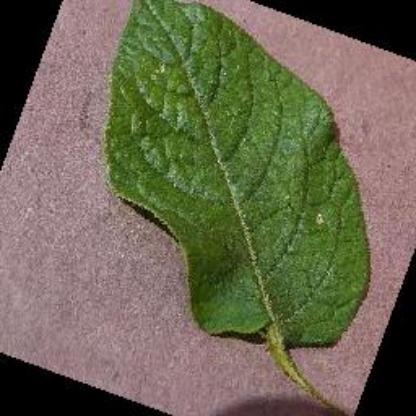Healthy-plant: (98, 0, 370, 394)
